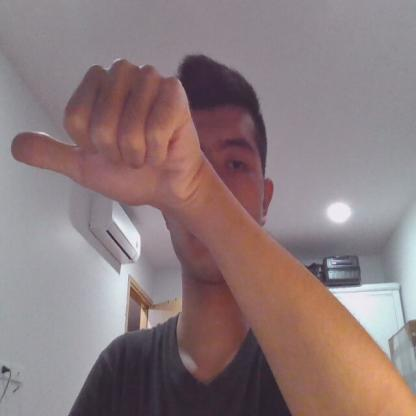right: (11, 57, 206, 222)
